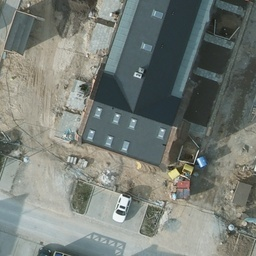car: (111, 194, 131, 222)
